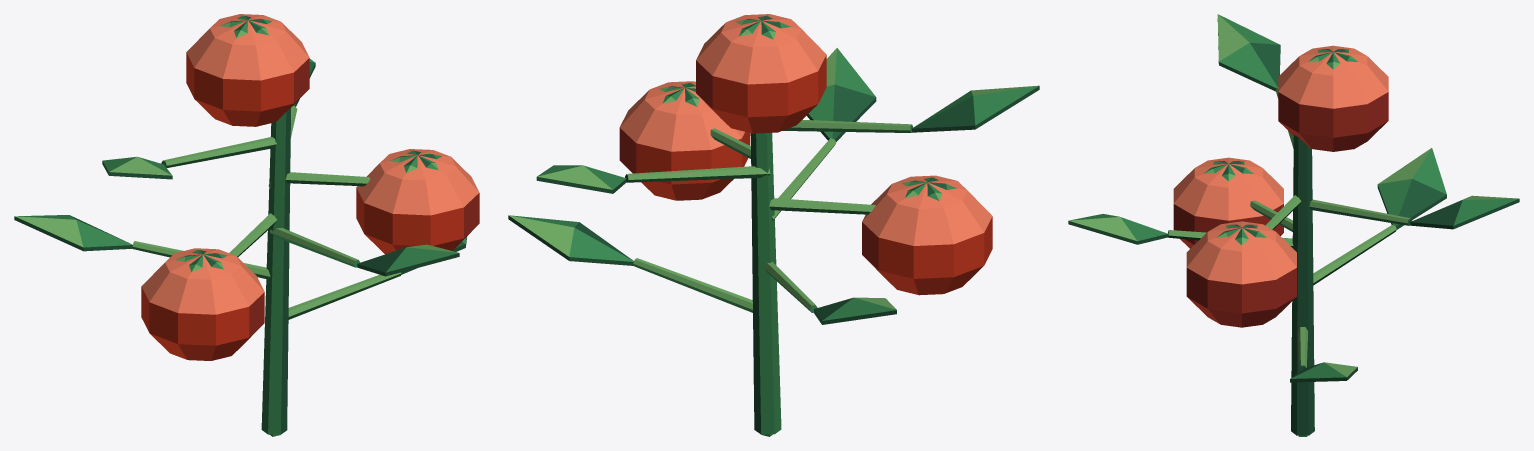
The model's file is tomato_stage_04.fbx.
The picture shows the model from 3 angles, left to right: view 1: azimuth 30°, elevation 25°; view 2: azimuth 150°, elevation 25°; view 3: azimuth 270°, elevation 25°; orthographic projection. The views are drawn at different scales.
Visible parts, largest first — view 1: tomato_stage_04, tomato_stage_04__Foliage; view 2: tomato_stage_04, tomato_stage_04__Foliage; view 3: tomato_stage_04, tomato_stage_04__Foliage.
Boxes of the visible parts, <box> form: tomato_stage_04: <box>141,14,479,360</box>; tomato_stage_04__Foliage: <box>14,58,467,434</box>; tomato_stage_04: <box>619,14,992,295</box>; tomato_stage_04__Foliage: <box>508,48,1039,434</box>; tomato_stage_04: <box>1173,45,1388,327</box>; tomato_stage_04__Foliage: <box>1068,14,1519,435</box>.
Bounding box in the file's own units: 2.15 × 1.92 × 2.07.
Materials: 1 (1 with a texture image).
